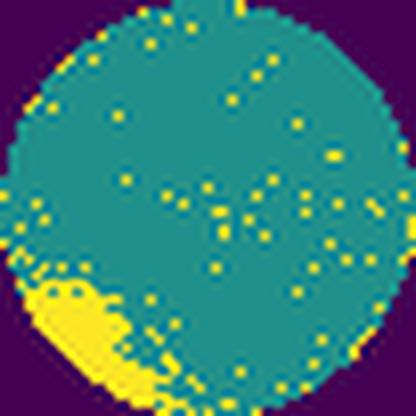Edge-Loc: (9, 248, 207, 416)
